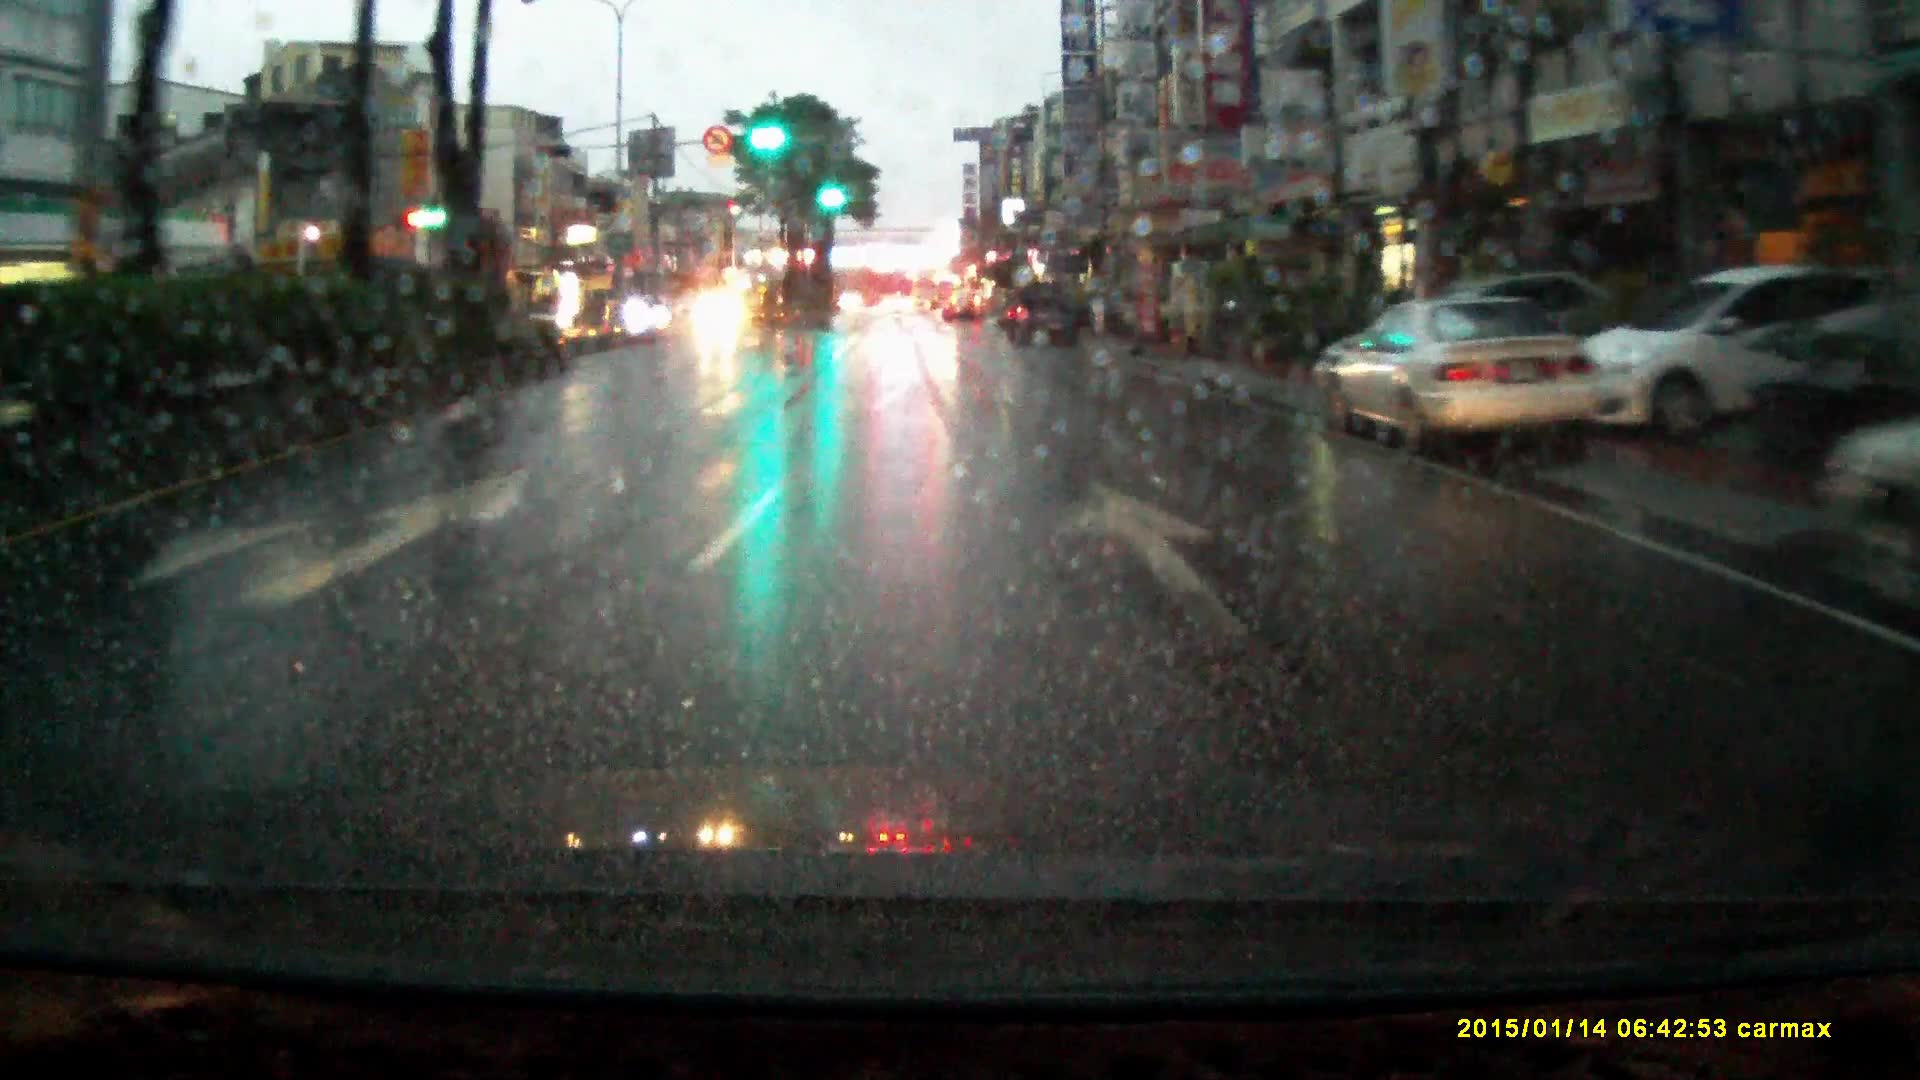vehicle: (1317, 298, 1630, 464), (1596, 266, 1859, 447), (1007, 284, 1085, 353), (684, 291, 752, 347), (615, 301, 665, 339), (913, 270, 942, 316), (943, 293, 980, 324), (882, 298, 916, 320)
